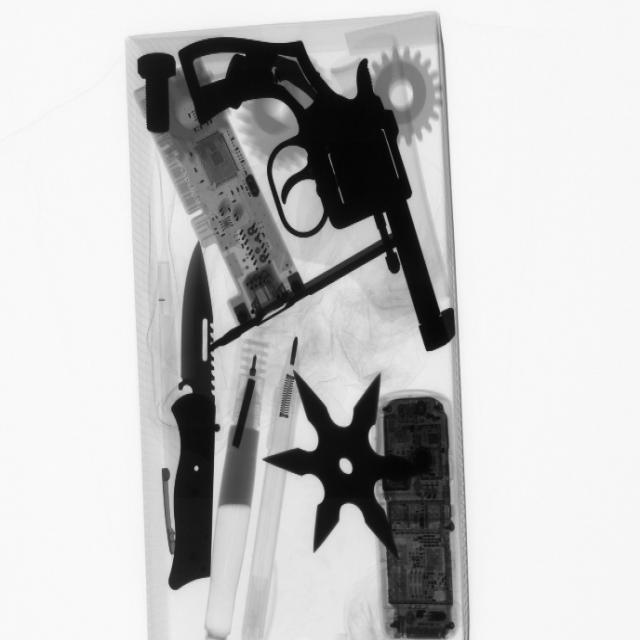GUN: (171, 27, 454, 359)
KNIFE: (161, 254, 235, 592)
SHURIKEN: (265, 371, 426, 566)
